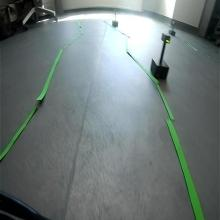green: (161, 32, 171, 44)
